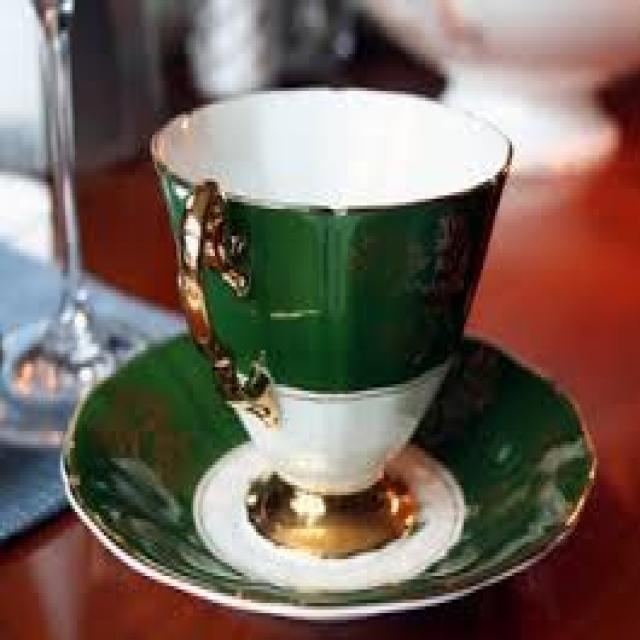taza: (92, 68, 513, 547)
